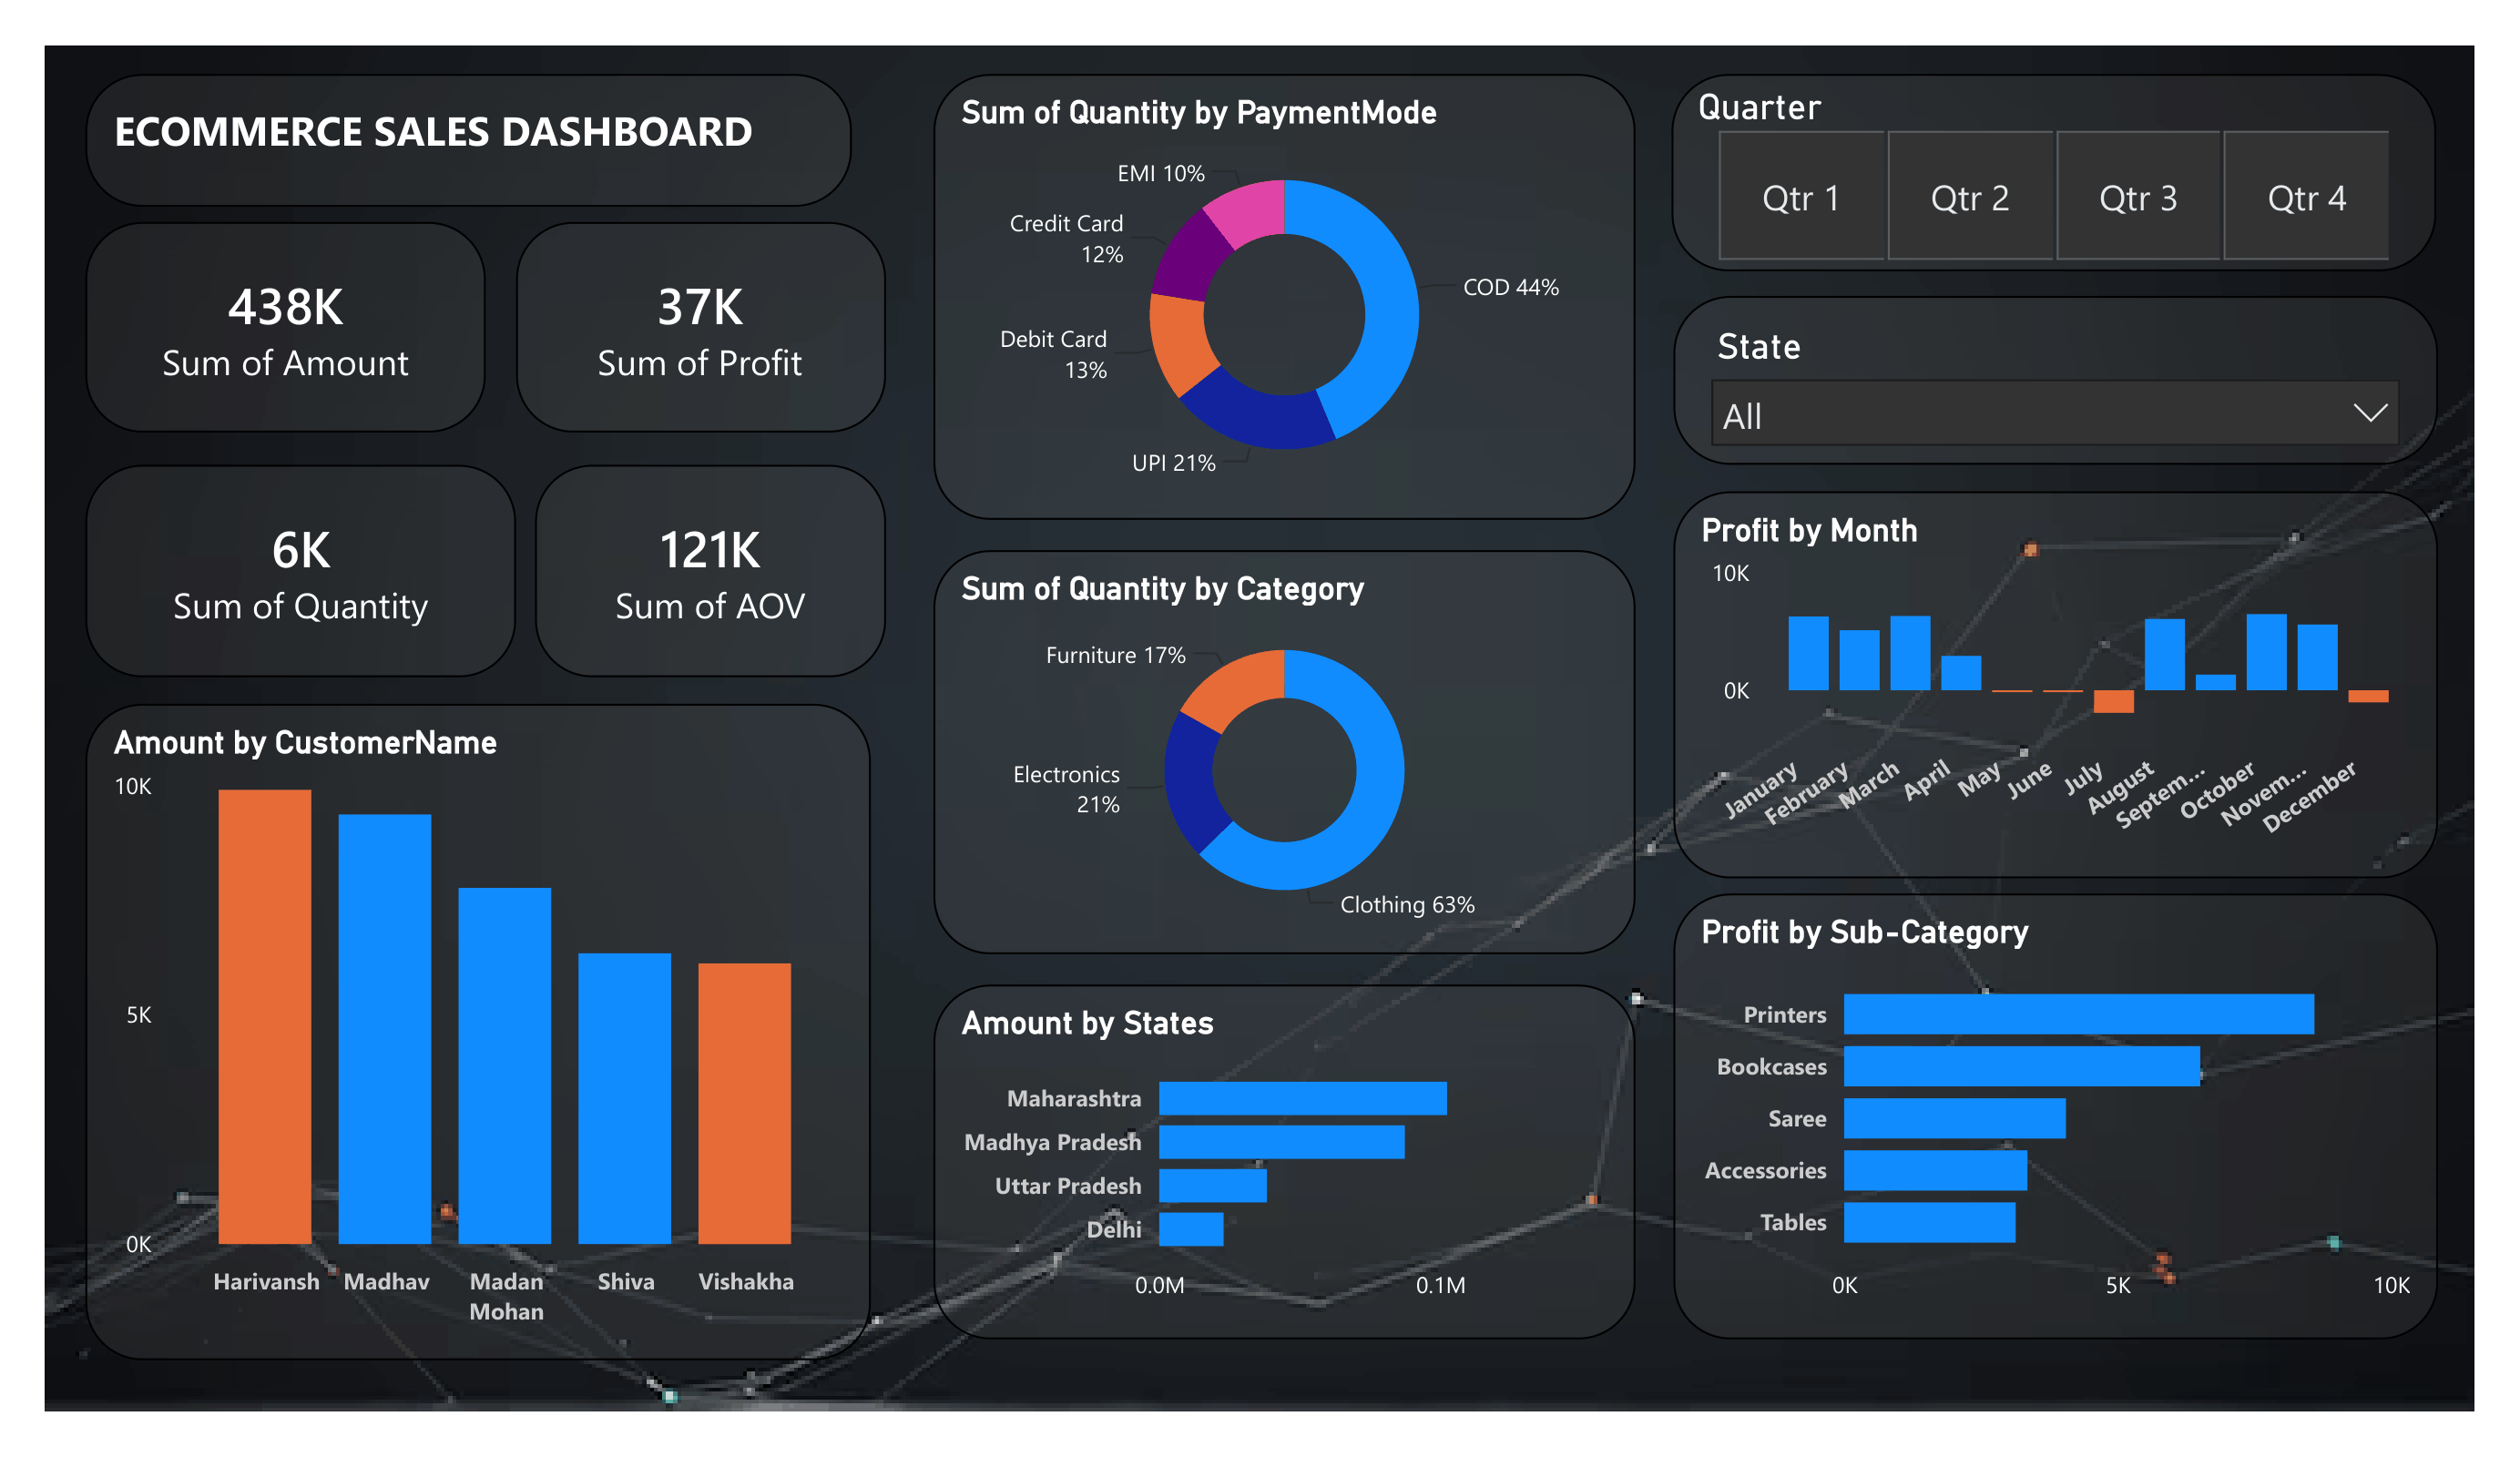

What the dashboard file says about the page in this screenshot:
{"tool":"powerbi","page":{"name":"Page 1","canvas":[1280,720],"ordinal":0},"visuals":[{"type":"textbox","box":[20.9,14.7,403.7,69.9],"z":0},{"type":"columnChart","title":"Profit by Month","fields":{"Category":["Orders.Order Date.Variation.Date Hierarchy.Month"],"Y":["Sum(Details.Profit)"]},"box":[857.6,234.6,403.4,204.5],"z":1000},{"type":"clusteredBarChart","title":"Profit by Sub-Category","fields":{"Category":["Details.Sub-Category"],"Y":["Sum(Details.Profit)"]},"box":[857.6,447.3,403.4,234.6],"z":2000},{"type":"donutChart","fields":{"Category":["Details.Category"],"Y":["Sum(Details.Quantity)"]},"box":[467.9,266.2,370.5,212.7],"z":3000},{"type":"donutChart","fields":{"Category":["Details.PaymentMode"],"Y":["Sum(Details.Quantity)"]},"box":[467.9,15.1,370.5,234.6],"z":4000},{"type":"cardVisual","fields":{"Data":["Sum(Details.Amount)"]},"box":[20.6,93.3,211.3,111.1],"z":5000},{"type":"cardVisual","fields":{"Data":["Sum(Details.Profit)"]},"box":[248.4,93.3,194.9,111.1],"z":6000},{"type":"cardVisual","fields":{"Data":["Sum(Details.Quantity)"]},"box":[20.6,220.9,227.8,112.5],"z":7000},{"type":"cardVisual","fields":{"Data":["Sum(Details.AOV)"]},"box":[258,220.9,185.2,112.5],"z":8000},{"type":"clusteredBarChart","title":"Amount by States","fields":{"Category":["Orders.State"],"Y":["Sum(Details.Amount)"]},"box":[467.9,495.4,370.5,186.6],"z":9000},{"type":"columnChart","title":"Amount by CustomerName","fields":{"Category":["Orders.CustomerName"],"Y":["Sum(Details.Amount)"]},"box":[20.6,347.2,414.4,345.8],"z":10000},{"type":"slicer","fields":{"Values":["Orders.Order Date.Variation.Date Hierarchy.Quarter"]},"box":[857,15.1,403.4,104],"z":11000},{"type":"slicer","fields":{"Values":["Orders.State"]},"box":[857.6,131.7,403.4,89.2],"z":12000}]}

Visuals, with their boxes on the page's 1280x720 design canvas (x1, y1, x2, y2). These are canvas units, not pixel positions in the 2520x1457 screenshot, which may show the page scaled, cropped or inside an application window:
textbox: [left=21, top=15, right=425, bottom=85]
"Profit by Month" columnChart: [left=858, top=235, right=1261, bottom=439]
"Profit by Sub-Category" clusteredBarChart: [left=858, top=447, right=1261, bottom=682]
donutChart - Details.Category x Sum(Details.Quantity): [left=468, top=266, right=838, bottom=479]
donutChart - Details.PaymentMode x Sum(Details.Quantity): [left=468, top=15, right=838, bottom=250]
cardVisual - Sum(Details.Amount): [left=21, top=93, right=232, bottom=204]
cardVisual - Sum(Details.Profit): [left=248, top=93, right=443, bottom=204]
cardVisual - Sum(Details.Quantity): [left=21, top=221, right=248, bottom=333]
cardVisual - Sum(Details.AOV): [left=258, top=221, right=443, bottom=333]
"Amount by States" clusteredBarChart: [left=468, top=495, right=838, bottom=682]
"Amount by CustomerName" columnChart: [left=21, top=347, right=435, bottom=693]
slicer - Orders.Order Date.Variation.Date Hierarchy.Quarter: [left=857, top=15, right=1260, bottom=119]
slicer - Orders.State: [left=858, top=132, right=1261, bottom=221]
